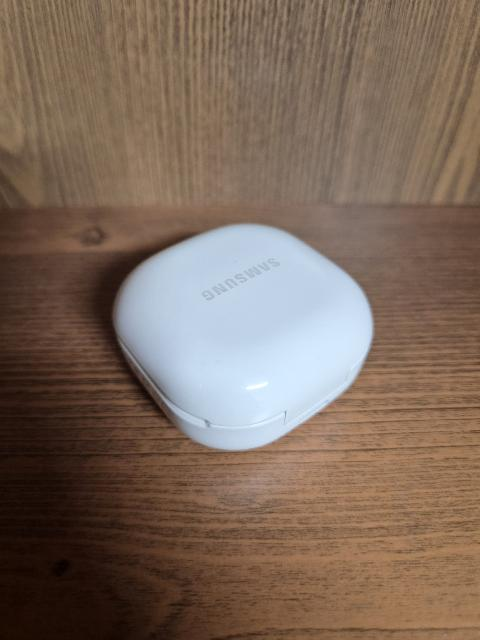earphone_case: (111, 223, 373, 451)
